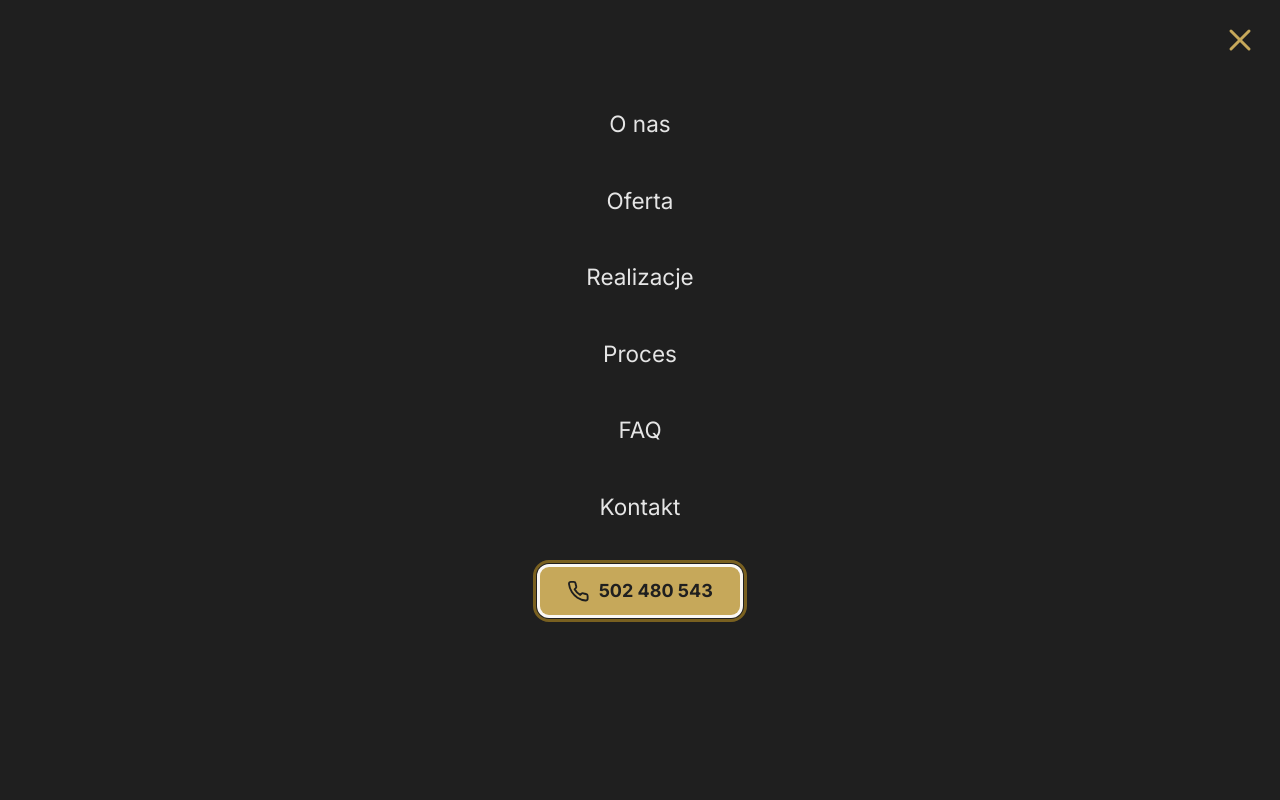
mobile navigation › keeps focus inside the modal and closes after choosing a section
The image size is (1280, 800).
Earlier steps of the test are not shown.
Step 1. Press Tab in the link "502 480 543", box [540,567,740,615]
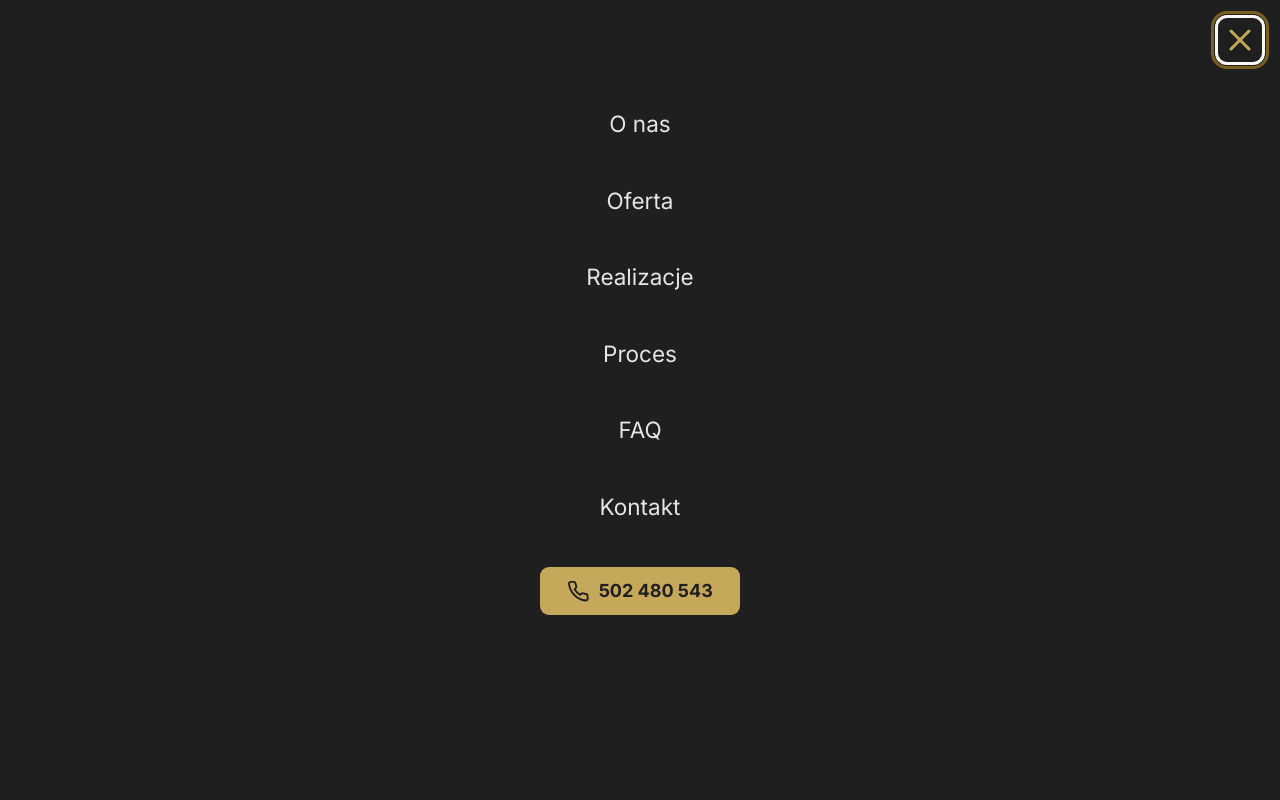
Step 2. Press Tab in the button named "Zamknij menu", box [1218,18,1262,62]
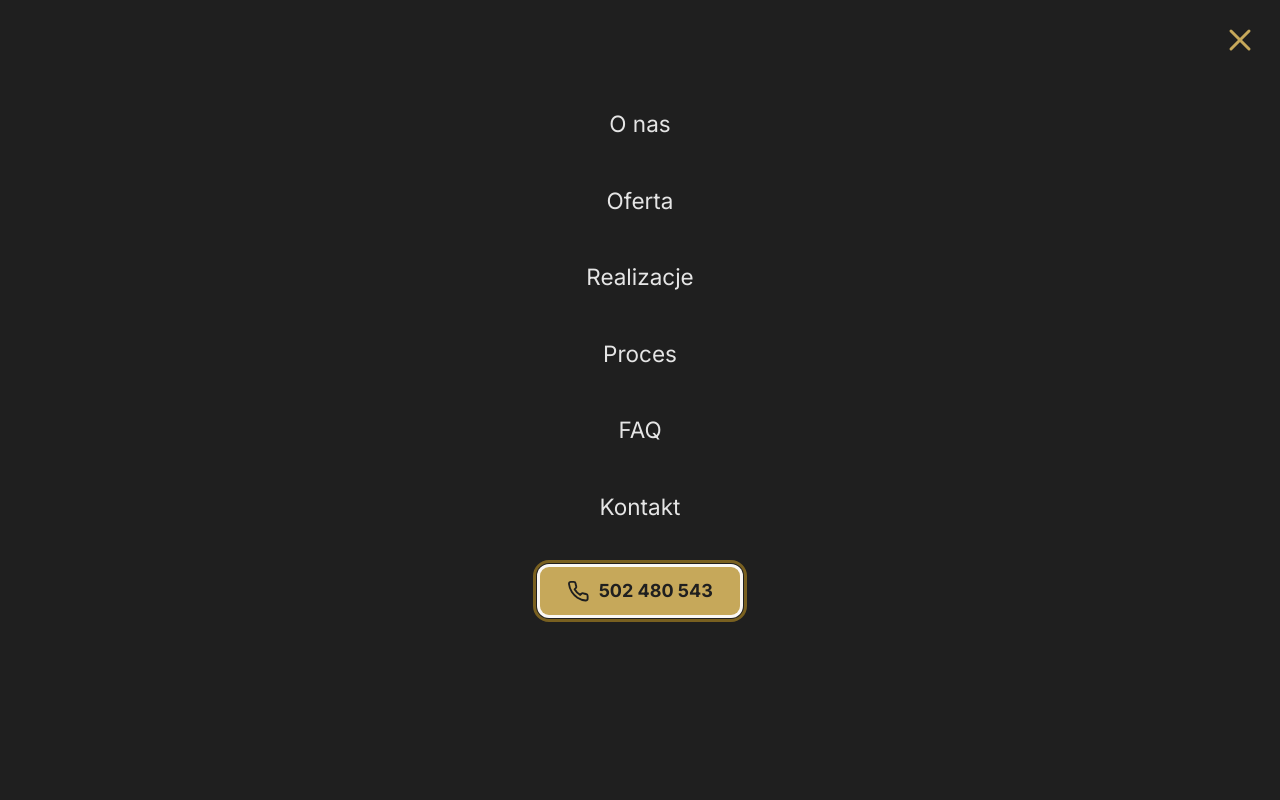
Step 3. Click the link "Kontakt" → [640, 506], box [600,492,680,520]
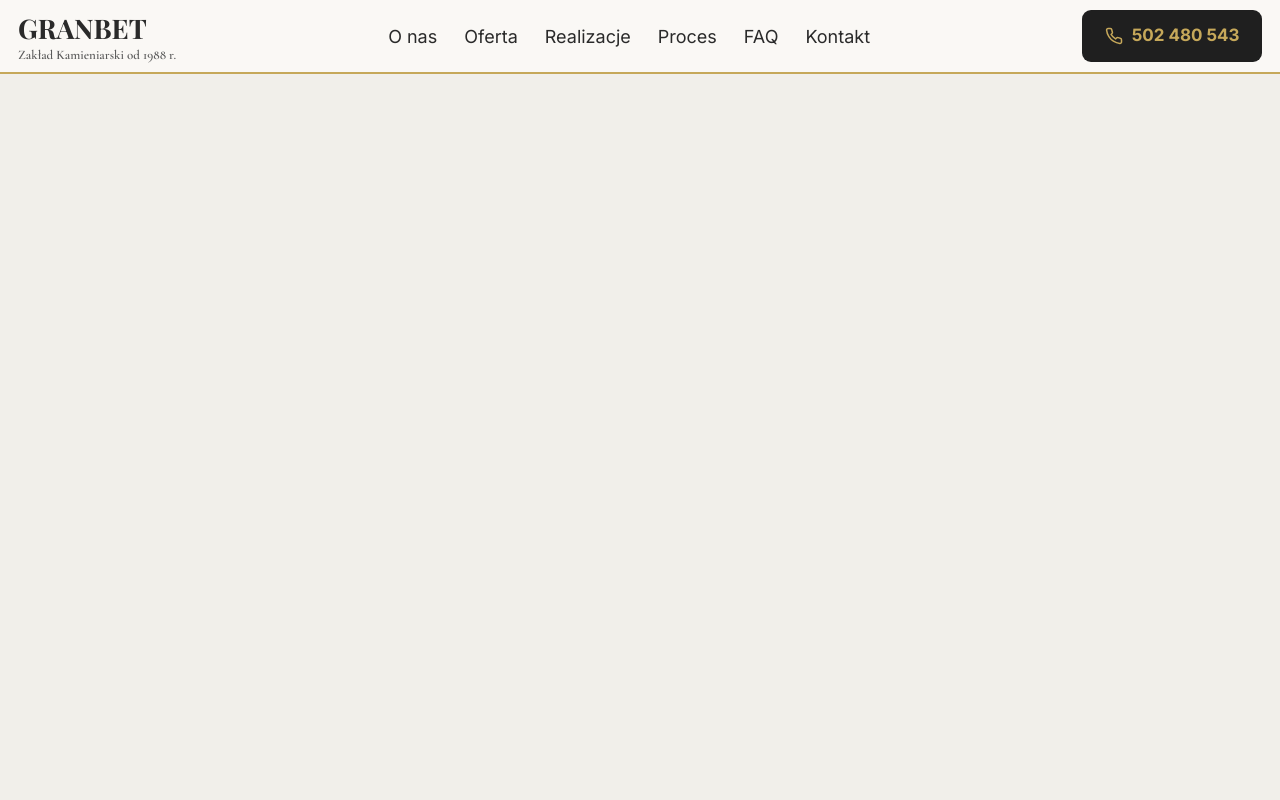
Result: the dialog is gone
